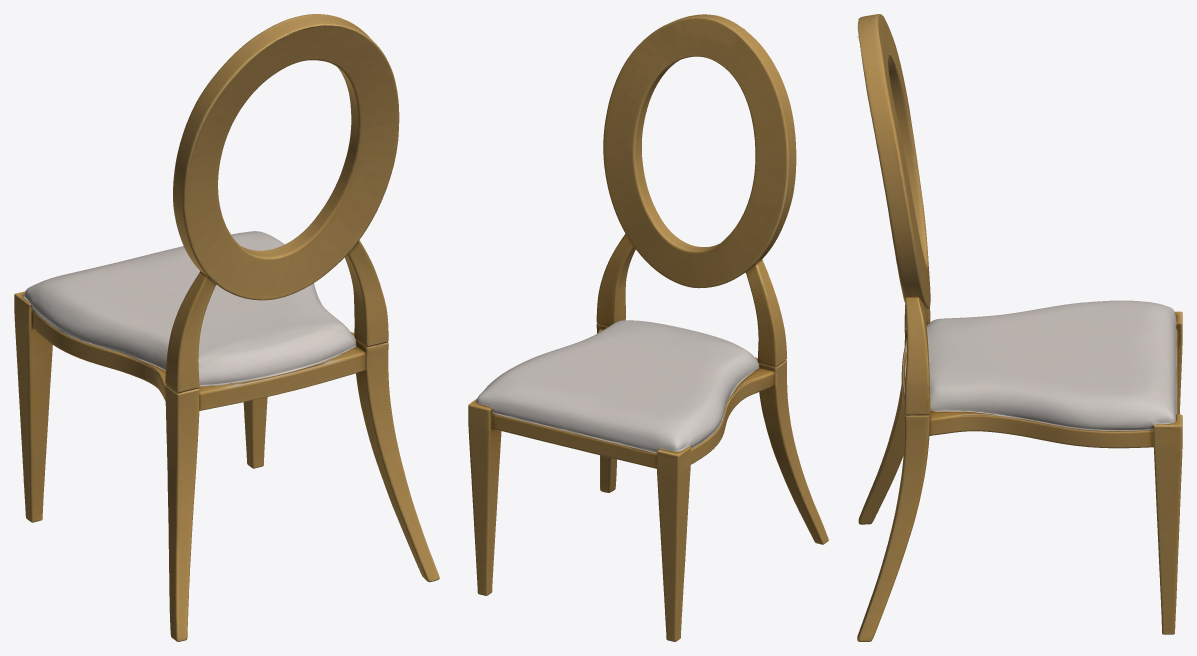
File: chair-gold-white.glb
3 views of the same model, side by side, from view 1: azimuth 30°, elevation 25°; view 2: azimuth 150°, elevation 25°; view 3: azimuth 270°, elevation 25° (orthographic). The views are drawn at different scales.
Visible parts, largest first — view 1: tripo_node_6eaf2a51-fd23-4040-b413-c427c4b2b408; view 2: tripo_node_6eaf2a51-fd23-4040-b413-c427c4b2b408; view 3: tripo_node_6eaf2a51-fd23-4040-b413-c427c4b2b408.
Boxes of the visible parts, x1,y1,x2,y2 form: tripo_node_6eaf2a51-fd23-4040-b413-c427c4b2b408: [14, 14, 439, 641]; tripo_node_6eaf2a51-fd23-4040-b413-c427c4b2b408: [468, 14, 828, 641]; tripo_node_6eaf2a51-fd23-4040-b413-c427c4b2b408: [857, 14, 1182, 641].
Bounding box in the file's own units: 0.4299 × 0.92 × 0.4852.
Materials: 1 (1 with a texture image).
